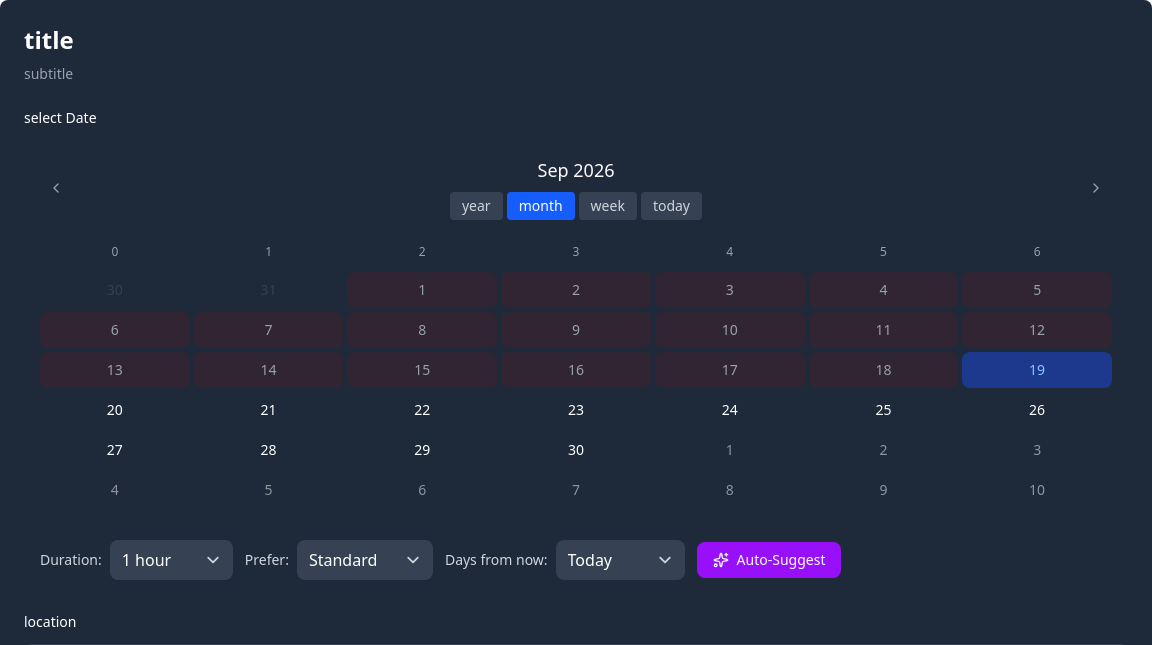
Test case: ServiceScheduler - calendar view toggle › Year button highlights and stays highlighted until view changes
Click the button "year". click: (476, 206)
box: [450, 192, 503, 220]
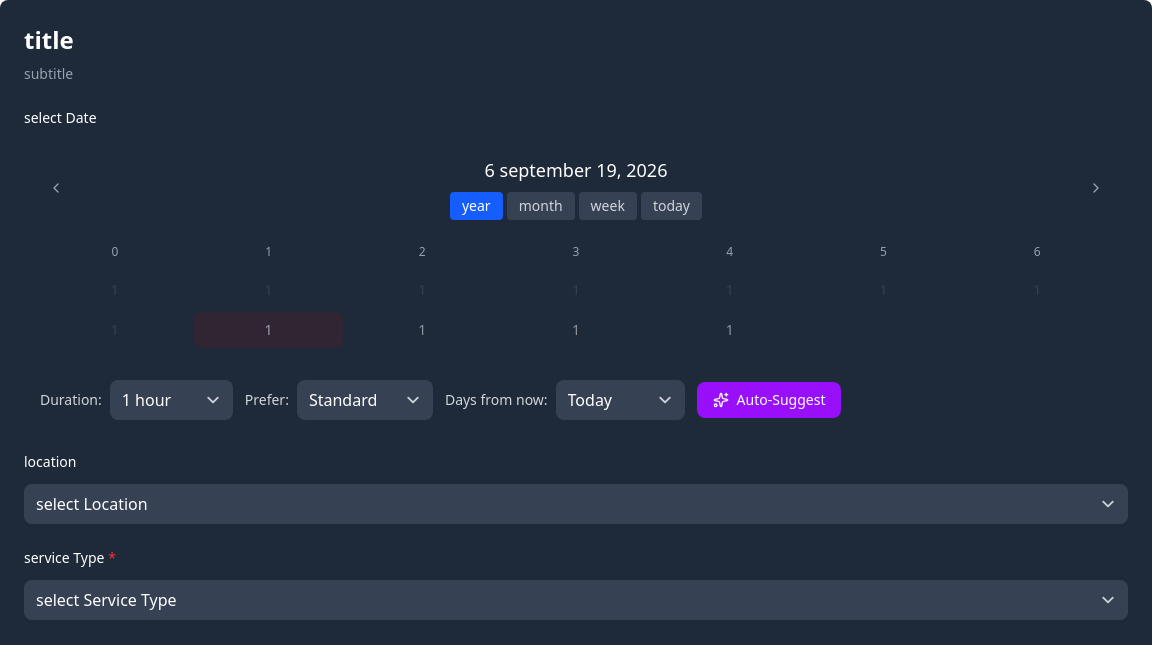
Result: the button "year" has class "bg-blue-600" at [450, 192, 503, 220]
